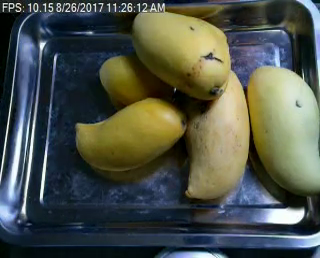Mango: (245, 65, 320, 196), (130, 8, 231, 98), (184, 68, 249, 200), (76, 98, 187, 169), (99, 56, 174, 104)
